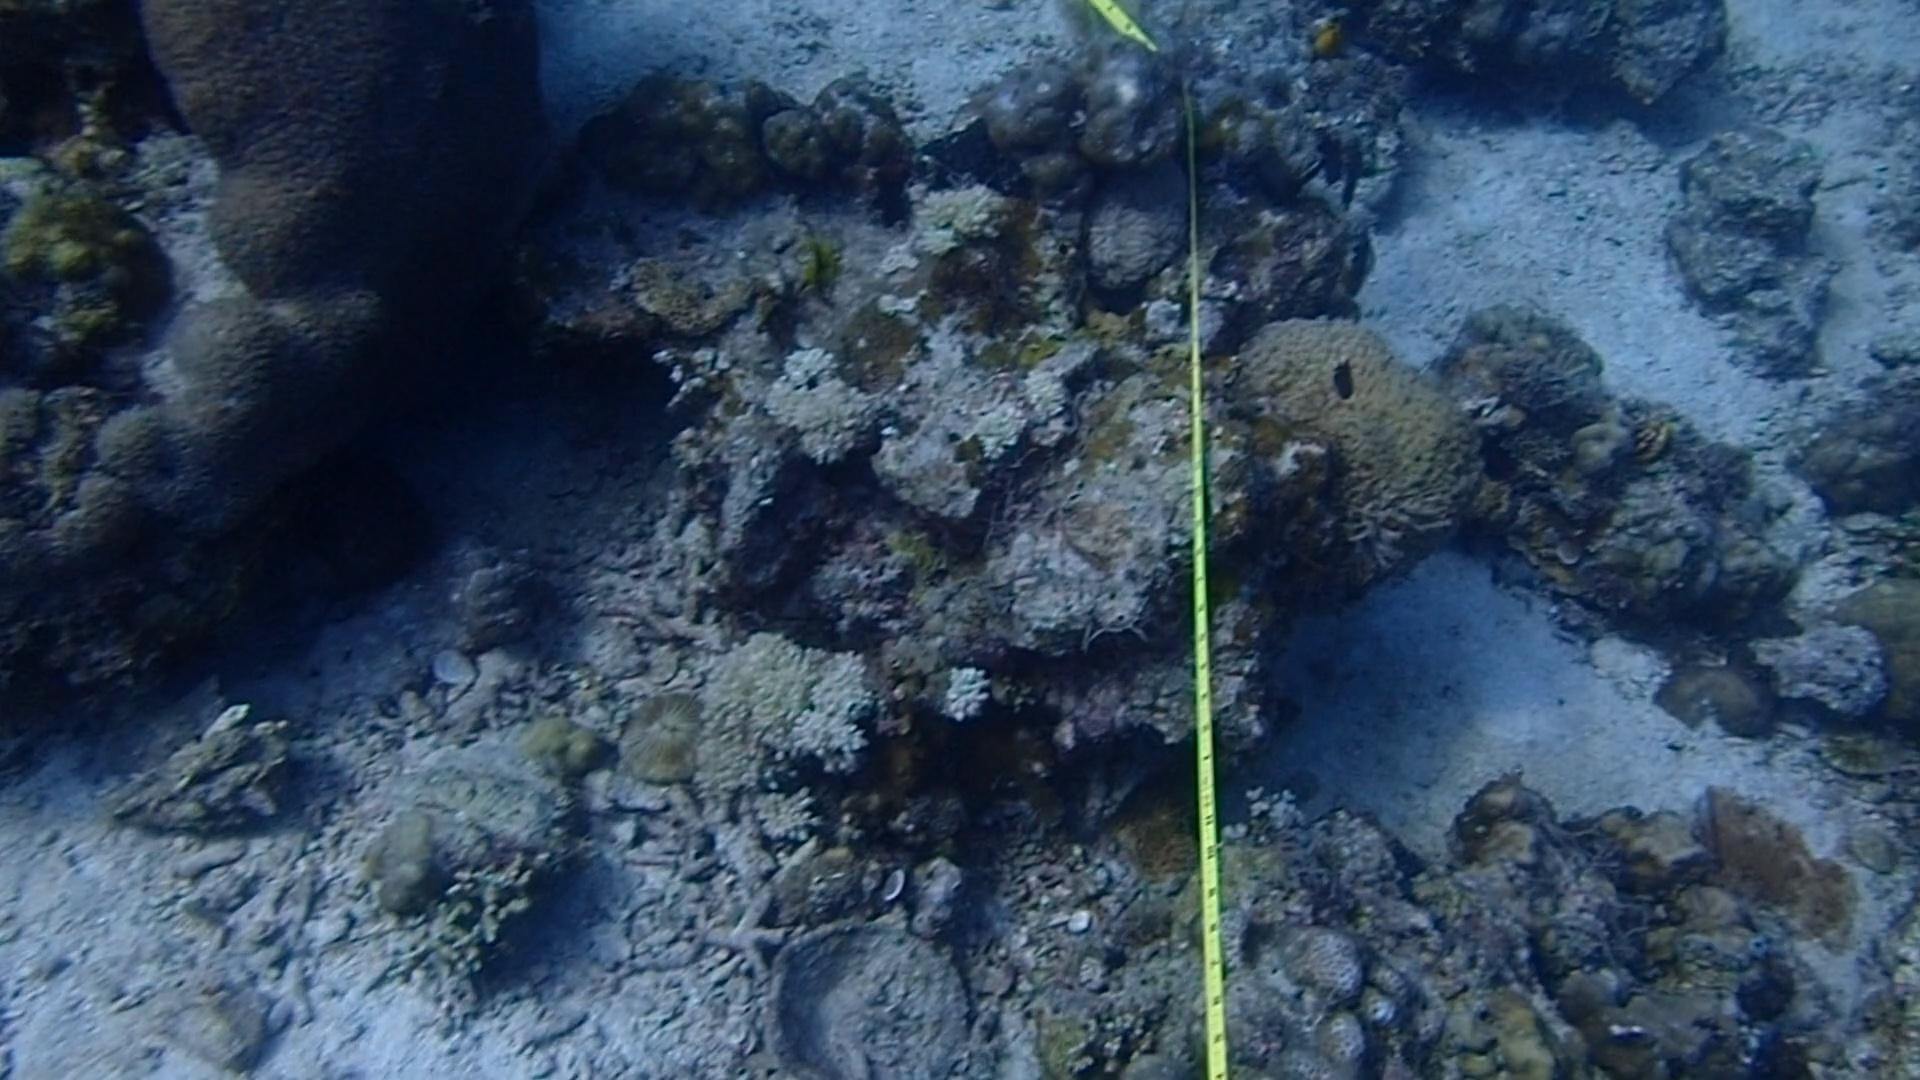Dark Fish: (1311, 343, 1385, 405), (1470, 429, 1531, 497), (1331, 232, 1385, 302), (1295, 125, 1353, 177), (1338, 149, 1364, 219)
